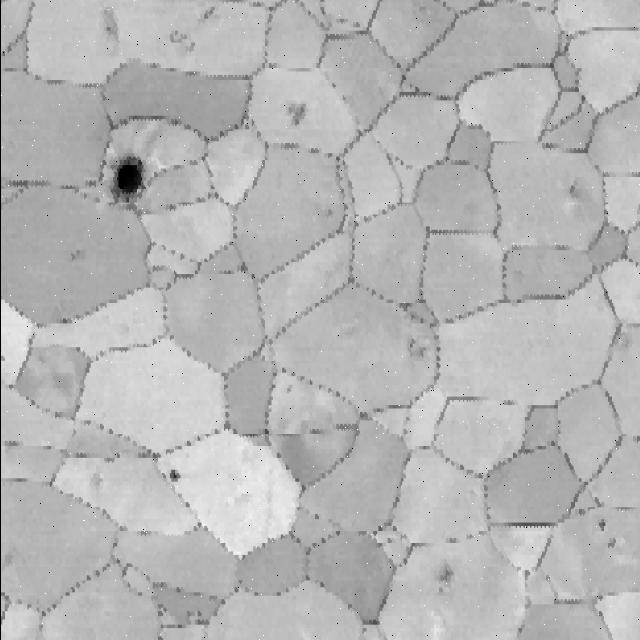good_void: (112, 141, 152, 210), (563, 171, 589, 219), (428, 560, 459, 599), (166, 25, 200, 57), (96, 8, 119, 45), (402, 334, 431, 363), (285, 95, 310, 128), (215, 260, 249, 281), (194, 2, 218, 28), (169, 461, 184, 493), (87, 466, 106, 490), (67, 244, 86, 266), (602, 529, 618, 553), (511, 262, 527, 285), (596, 513, 608, 533), (322, 202, 334, 222), (283, 378, 294, 396), (0, 354, 7, 364)
